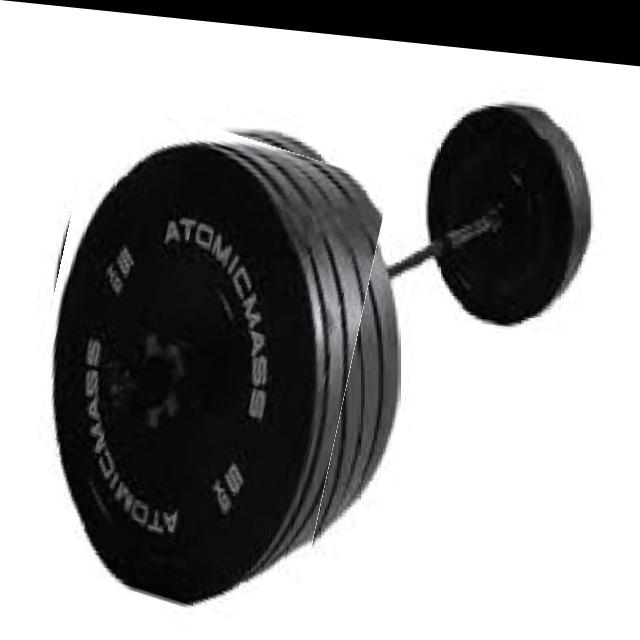barbell: (21, 97, 367, 640)
